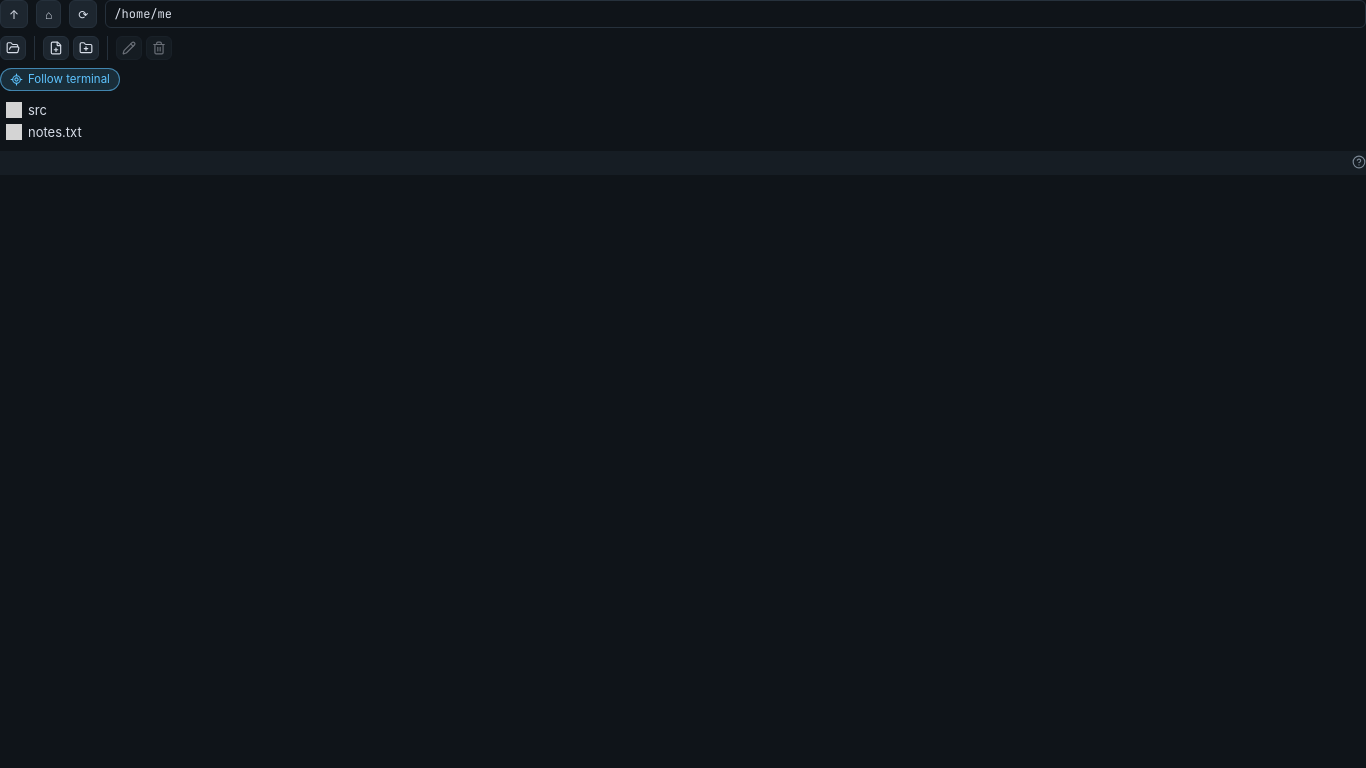
Scenario: LocalPanel › refuses names with a separator
Expected: the text "notes.txt" is shown, [28, 124, 82, 140]
Click the button named "New file" at point(56, 48), box [43, 36, 69, 60]
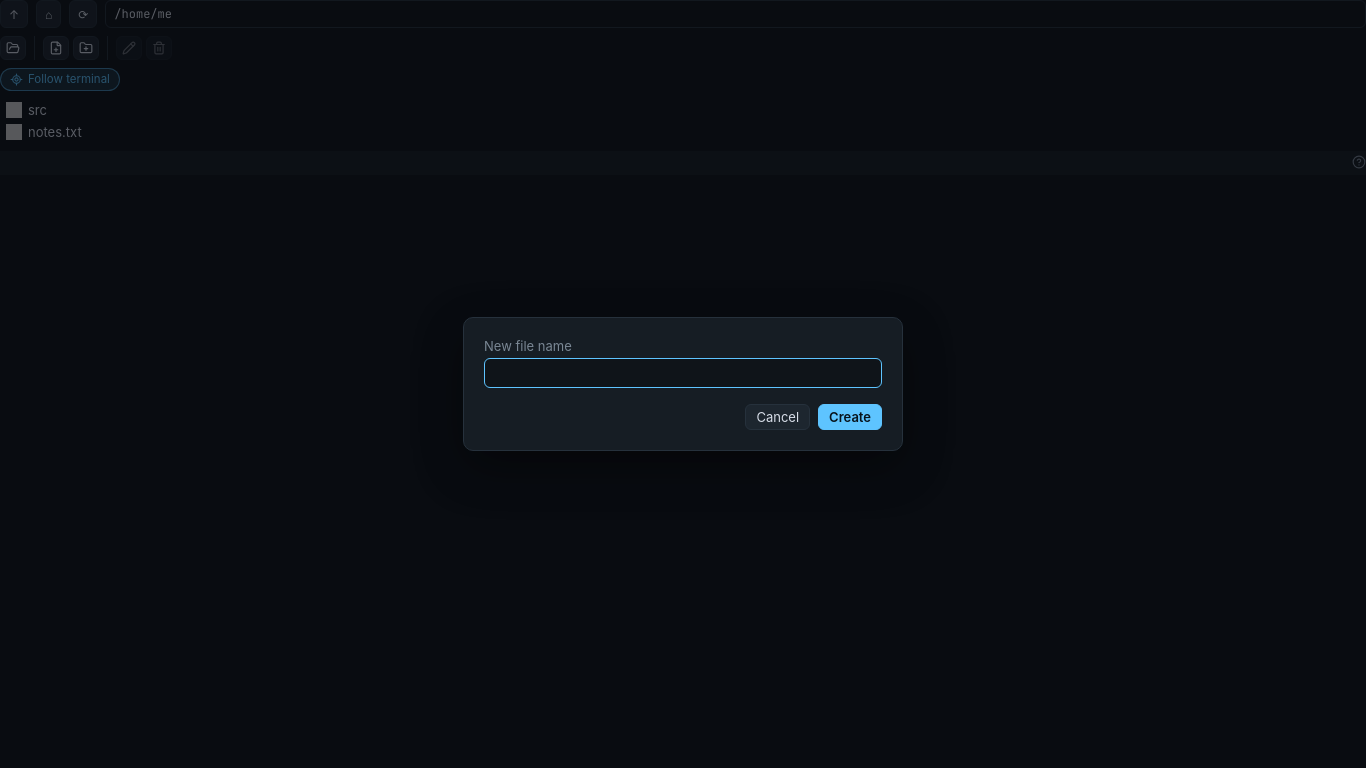
Type "a/b" into the field labelled "New file name" at point(683, 373), box [484, 358, 882, 388]
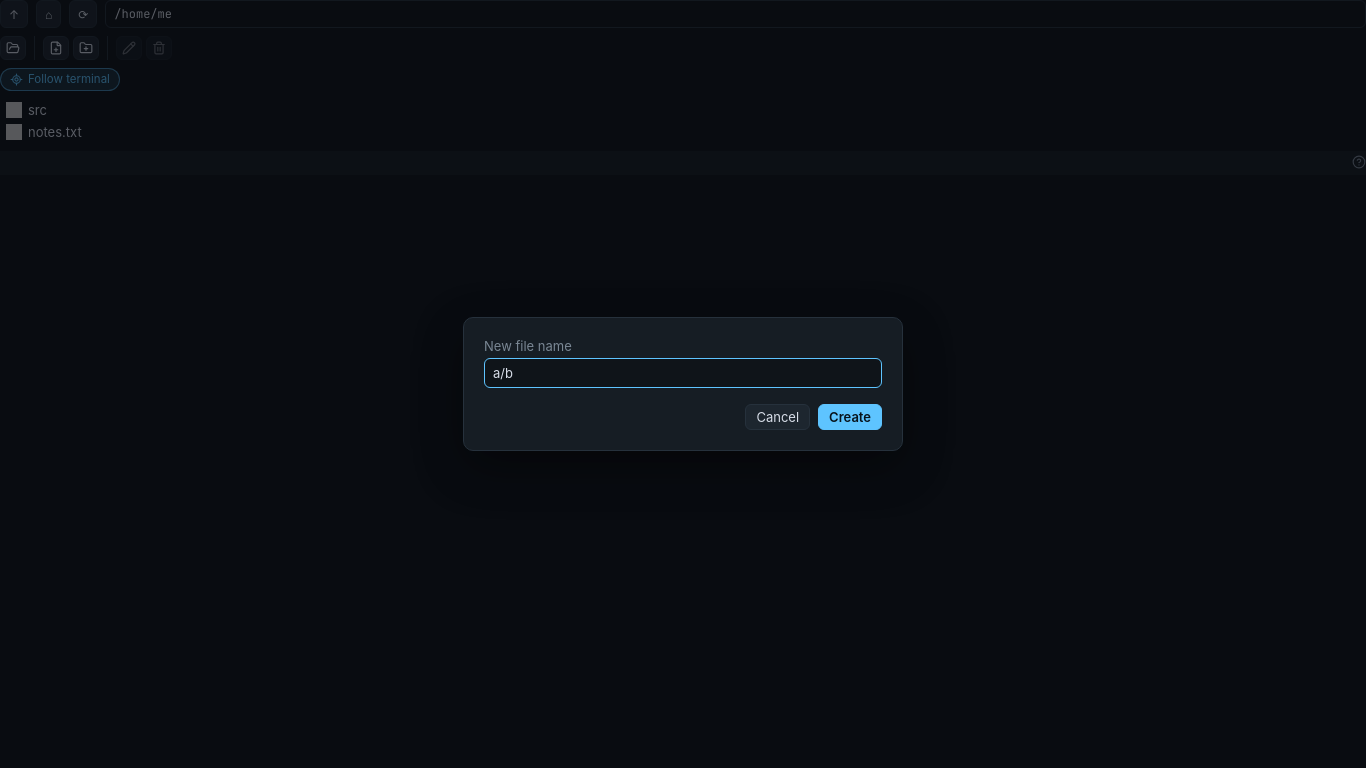
Press Enter in the field labelled "New file name", box [484, 358, 882, 388]
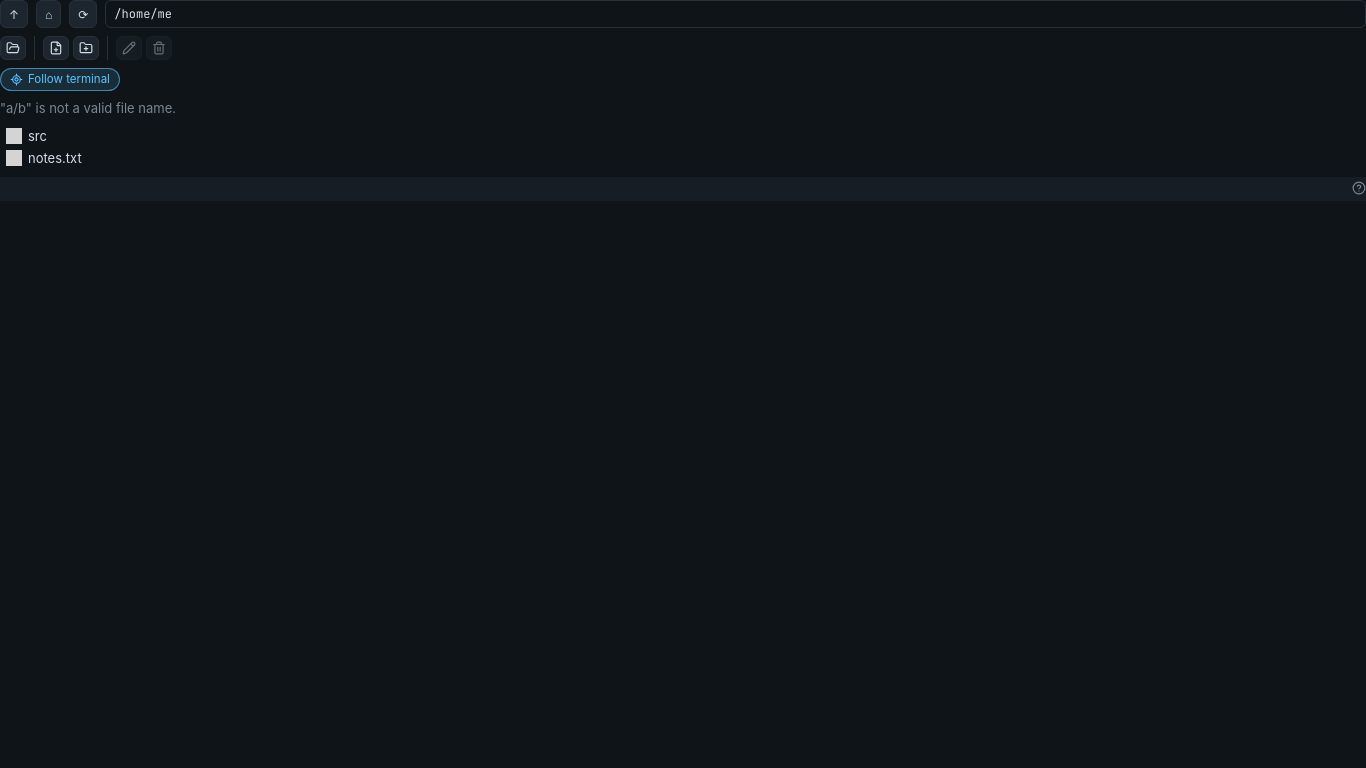
Result: the message reads "\"a/b\" is not a valid file name." at [0, 100, 176, 116]
